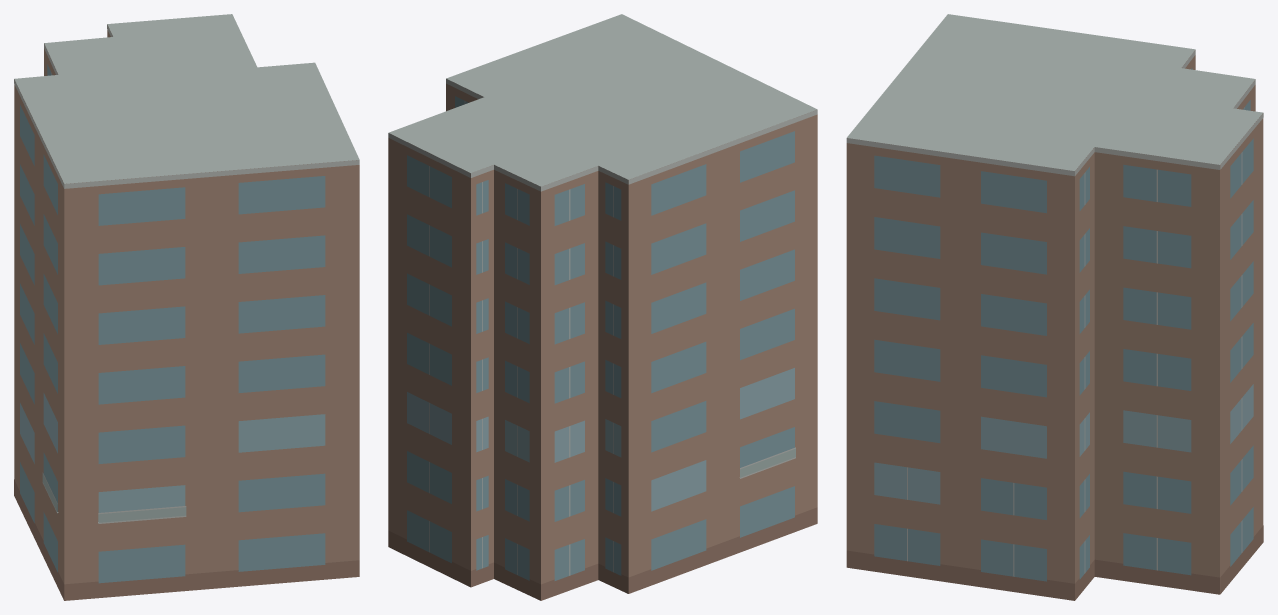
File: survey-upis-32539731.glb
3 renders of one model, left to right at view 1: azimuth 30°, elevation 25°; view 2: azimuth 150°, elevation 25°; view 3: azimuth 270°, elevation 25°, orthographic. The views are drawn at different scales.
Parts seen in each view (by area): view 1: survey-upis-32539731.tmp; view 2: survey-upis-32539731.tmp; view 3: survey-upis-32539731.tmp.
Boxes of the visible parts, x1=… form: survey-upis-32539731.tmp: x1=14, y1=14, x2=359, y2=600; survey-upis-32539731.tmp: x1=388, y1=14, x2=817, y2=600; survey-upis-32539731.tmp: x1=846, y1=14, x2=1263, y2=600.
Size of the model in its own units: 16.01 by 20.4 by 17.94.
